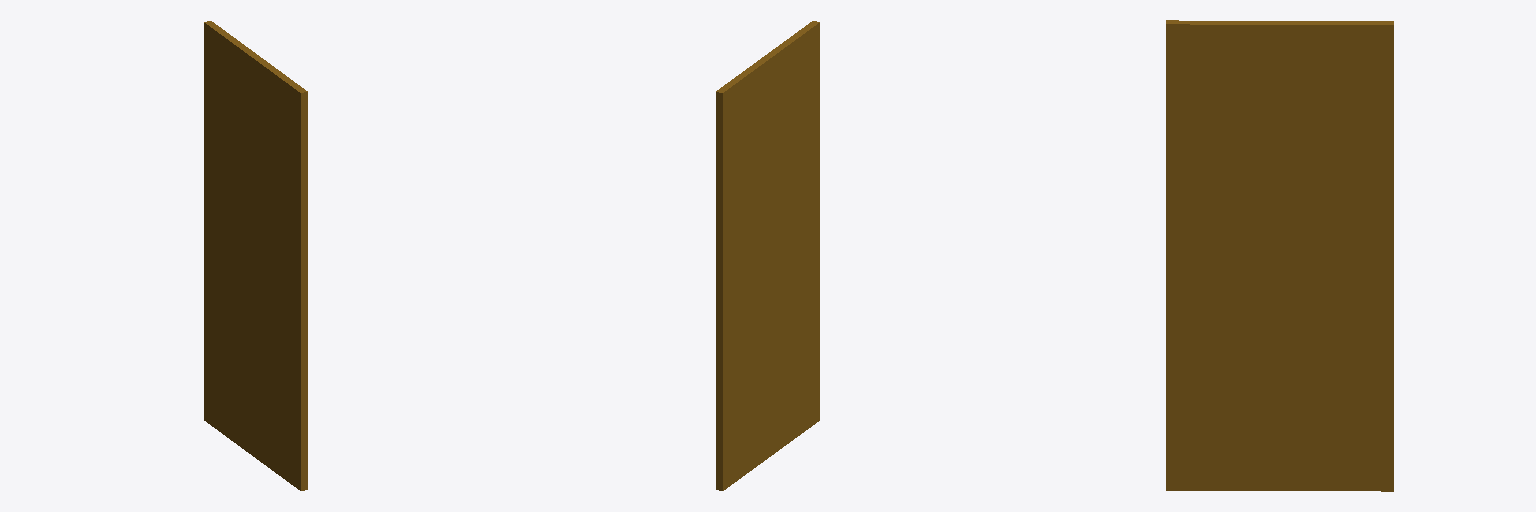
URDF robot description (simple_door):
<?xml version="0.0" ?>
<robot name="simple_door">

  <link name="base_link">
    <inertial>
      <origin rpy="0 0 0" xyz="0 0 0"/>
       <mass value=".0"/>
       <inertia ixx="0" ixy="0" ixz="0" iyy="0" iyz="0" izz="0"/>
    </inertial>
  </link>

  <link name="simple_door">
    <inertial>
      <origin rpy="0 0 0" xyz="0 0 0"/>
       <mass value=".0"/>
       <inertia ixx="0" ixy="0" ixz="0" iyy="0" iyz="0" izz="0"/>
    </inertial>
    <visual>
      <origin rpy="1.57 0 0" xyz="0 -0.451 1.02"/>
      <geometry>
        <mesh filename="package://adream_simulation/models/cad_models/obj/simple_door.obj" scale="1 1 1"/>
      </geometry>
       <material name="wood">
        <color rgba="0.572 0.427 0.152 1"/>
      </material>
    </visual>
  </link>

  <joint name="base_to_door" type="revolute">
    <parent link="base_link"/>
    <child link="simple_door"/>
    <axis xyz="0 0 1"/>
    <limit effort="1000.0" lower="0.0" upper="1.57" velocity="0.5"/>
    <origin rpy="0 0 0" xyz="0 0.451 0"/>
  </joint>

</robot>

--- Facts derived from the render (not from the file) ---
Views: 3 orthographic renders of the robot side by side, from view 1: azimuth 30°, elevation 25°; view 2: azimuth 150°, elevation 25°; view 3: azimuth 270°, elevation 25°.
Model simple_door with 2 links and 1 joints (1 revolute), rooted at base_link, posed every joint at zero.
Links seen in each view (by area): view 1: simple_door; view 2: simple_door; view 3: simple_door.
Link boxes in pixels (box(x1,y1,x2,y2)): simple_door: box(204, 21, 307, 490); simple_door: box(716, 21, 819, 490); simple_door: box(1166, 20, 1393, 491).
Bounding box of the posed robot: 0.0392 × 0.9039 × 2.04 m (x, y, z).
1 mesh visuals loaded from 1 distinct referenced files (1 OBJ).